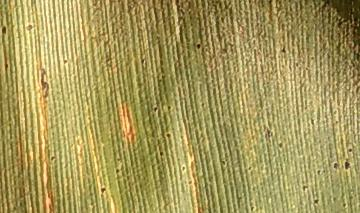tarspot: (38, 64, 51, 100), (264, 125, 274, 142), (343, 159, 352, 172), (25, 22, 34, 32), (1, 25, 9, 36), (276, 140, 285, 149), (308, 117, 317, 126), (301, 183, 309, 193), (194, 42, 203, 50), (219, 158, 228, 166), (179, 164, 187, 173), (246, 164, 254, 173), (248, 204, 256, 213), (280, 44, 287, 54), (332, 161, 339, 171), (99, 186, 107, 194), (164, 131, 172, 139), (61, 58, 69, 66), (199, 101, 207, 109), (186, 177, 194, 185), (333, 119, 341, 127), (166, 103, 172, 113), (152, 104, 158, 114), (49, 154, 56, 162), (312, 198, 320, 205), (315, 168, 323, 175), (309, 54, 316, 62), (158, 150, 164, 158), (341, 201, 347, 209), (140, 57, 146, 64), (4, 62, 10, 69), (346, 147, 353, 153), (115, 168, 120, 174)
